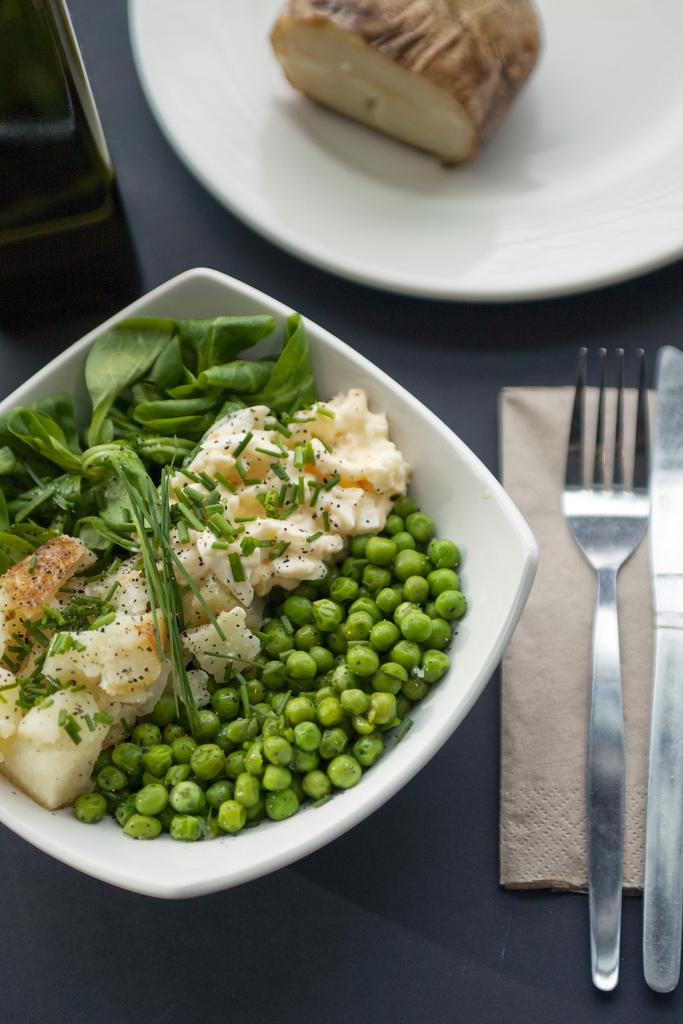boiled peas: (136, 532, 467, 837)
chopped lettuce: (8, 321, 255, 520)
